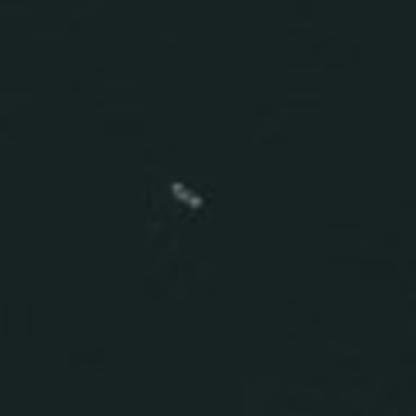ship: (165, 177, 208, 211)
